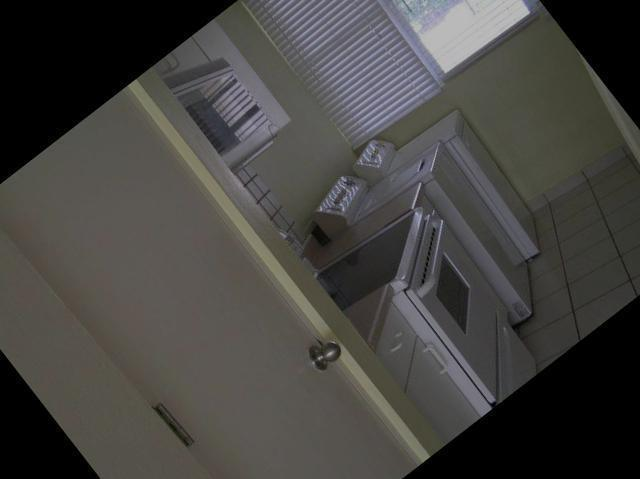Electrodomestico: (304, 114, 551, 375), (354, 84, 562, 304), (364, 197, 545, 402)
Puerta: (0, 86, 420, 479)
